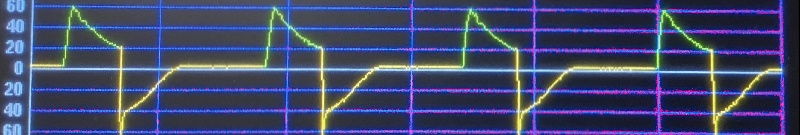normal_flow: (45, 0, 775, 135)
